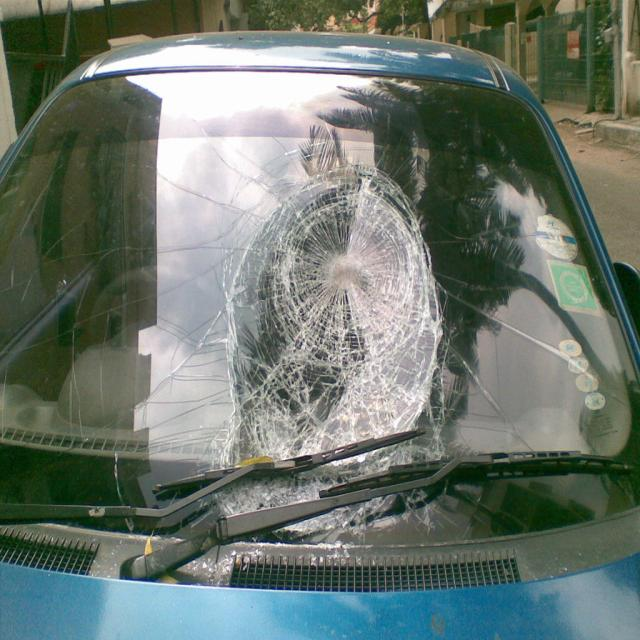car: (10, 40, 624, 522)
